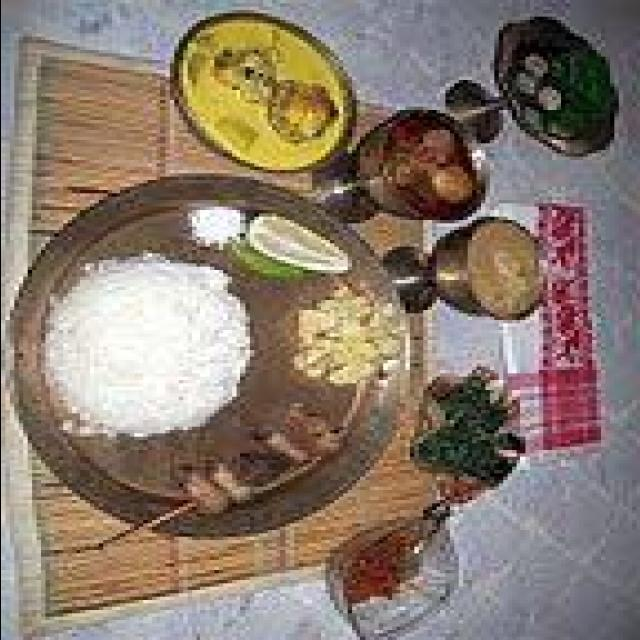dal: (167, 18, 353, 180)
pickle: (326, 524, 449, 621)
rice: (4, 256, 272, 444), (276, 275, 411, 397)
